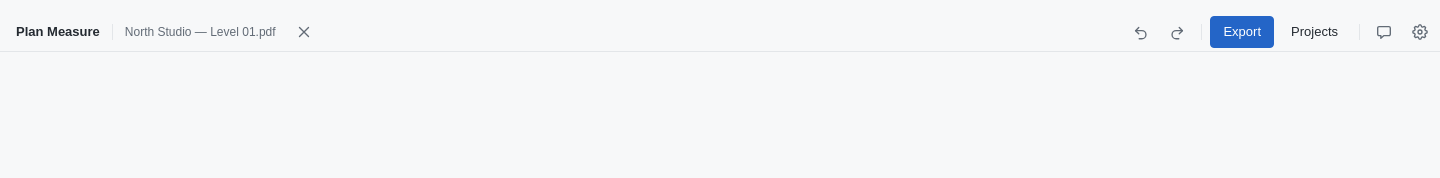
Scenario: AppBar › activates a Feedback link with click and closes the menu
Click the button named "Feedback" at (1384, 32), box [1368,16,1400,48]
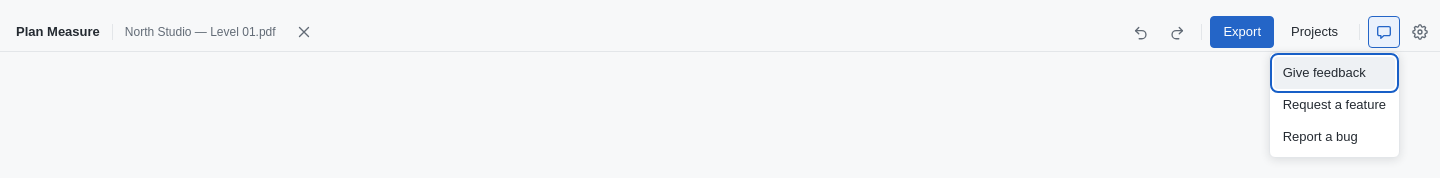
Press ArrowDown in the menu item "Give feedback", box [1274,56,1395,88]
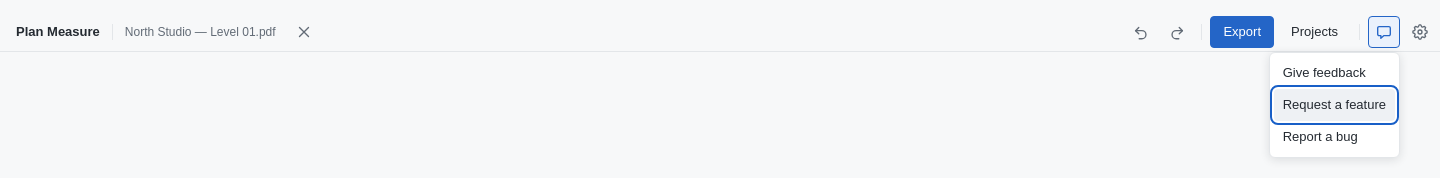
Click the menu item "Request a feature" at (1334, 104), box [1274,88,1395,120]
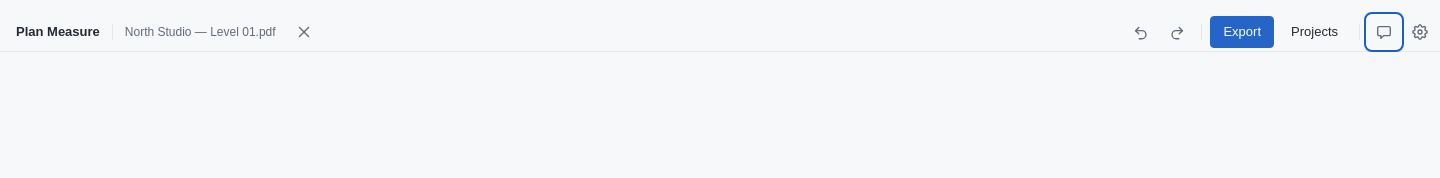
Result: the menu is gone
